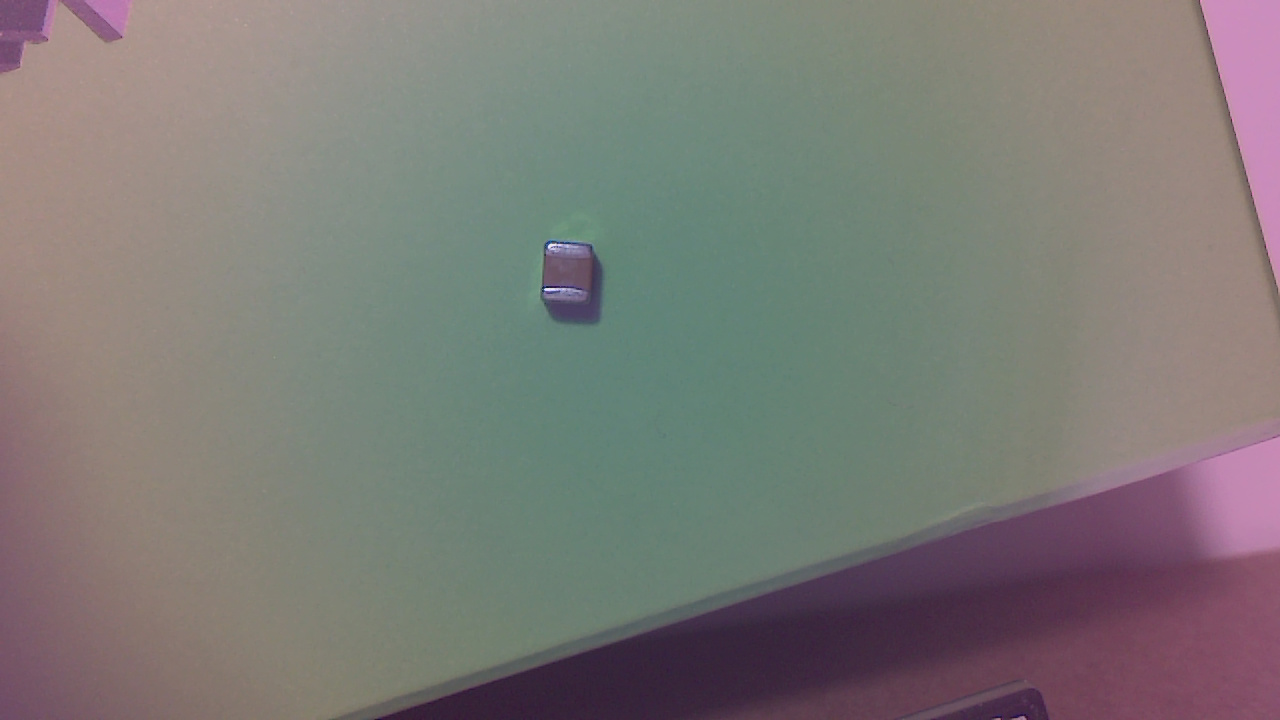Condensator: (543, 239, 603, 320)
